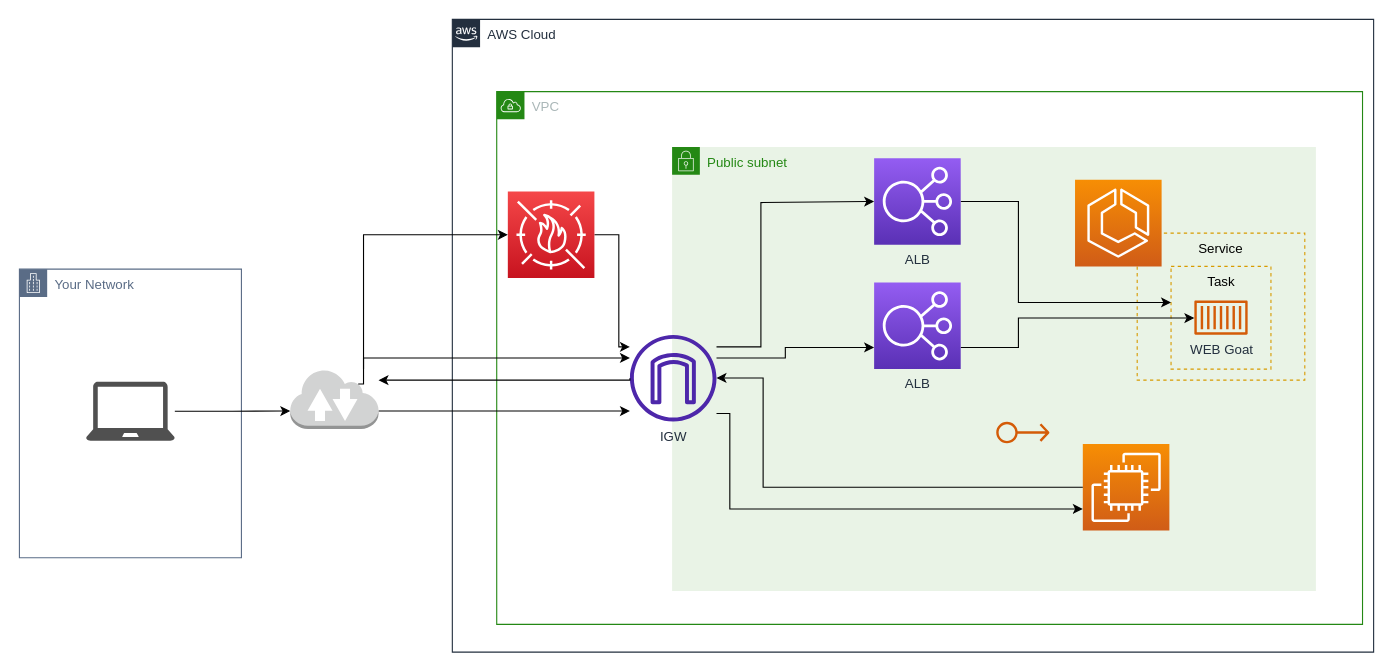
This 1393x672 diagram has some shape labels left out. Each missing label, with the centre of its shape:
"Bastion Server Elastic IP" belongs at [1022,432].
"EC2 Bastion Server" belongs at [1125,487].
"ECS" belongs at [1118,222].
"Internet" belongs at [334,398].
"WAF" belongs at [550,234].
